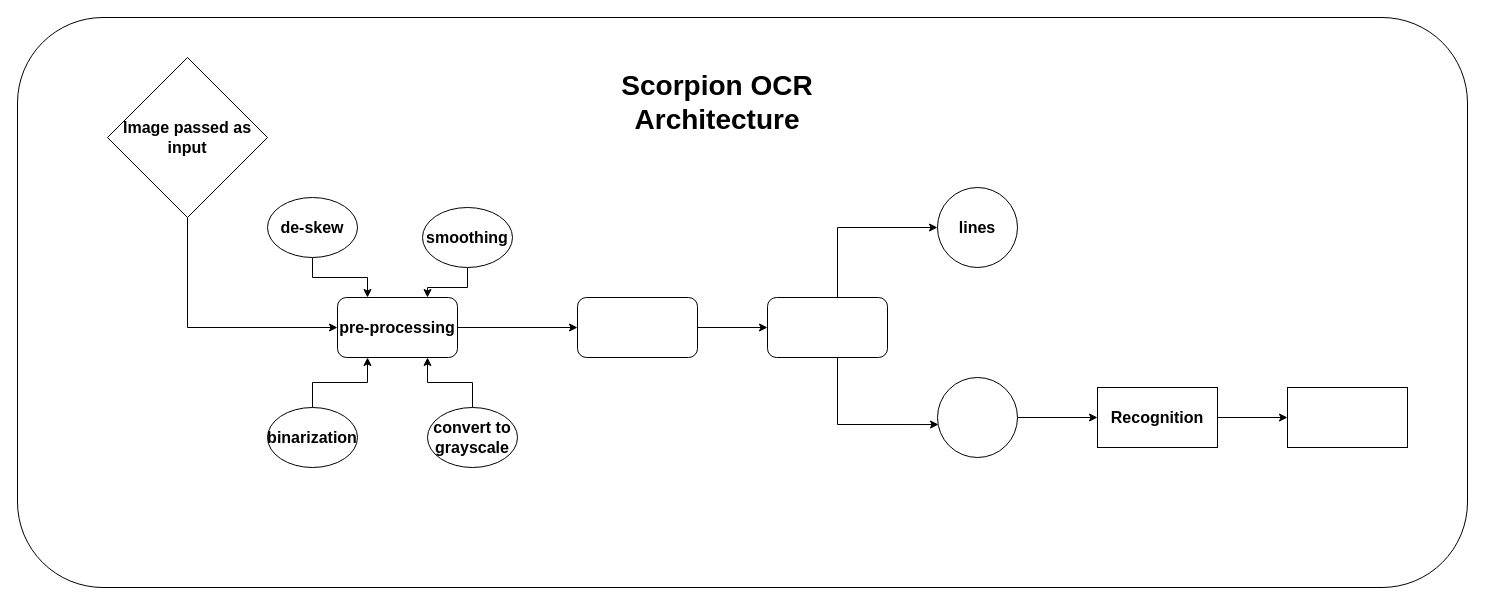
The diagram is 1485 pixels wide and 605 high, and some of its shapes have lost their labels. Each missing label, with the centre of its shape:
"chars" belongs at [977,417].
"Segmentation" belongs at [827,327].
"TEXT" belongs at [1347,417].
"Text Extraction" belongs at [637,327].
